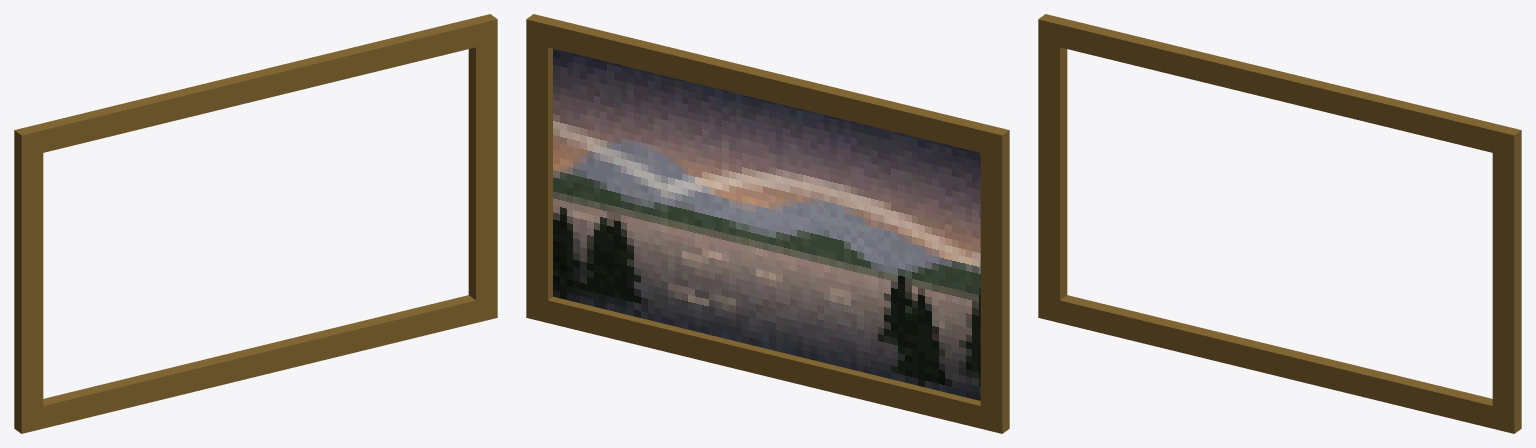
File: painting-mountains.glb
3 renders of one model, left to right at view 1: azimuth 30°, elevation 25°; view 2: azimuth 150°, elevation 25°; view 3: azimuth 330°, elevation 25°, orthographic.
Parts seen in each view (by area): view 1: painting-mountains; view 2: painting-mountains; view 3: painting-mountains.
Boxes of the visible parts, box(x1,y1,x2,y2) form: painting-mountains: box(14, 14, 497, 433); painting-mountains: box(526, 14, 1009, 433); painting-mountains: box(1038, 14, 1521, 433).
Size of the model in its own units: 3.74 by 2.24 by 0.1.
Materials: 2 (1 with a texture image).
